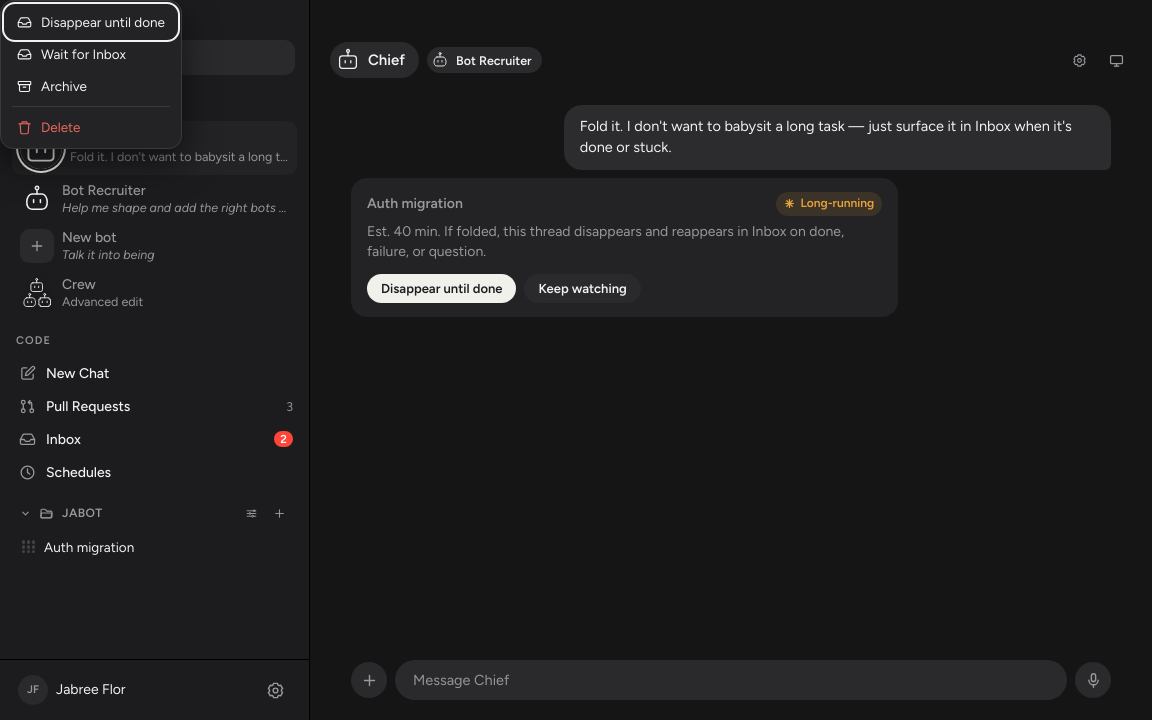
Test: folding a host-owned thread › puts the row back and says why when the host refuses an archive
(page scrolled)
Expected: the button named "New thread in jabot" is shown, [269, 504, 289, 524]
Click the menu item "Archive".
click(91, 86)  # box [6, 70, 176, 102]
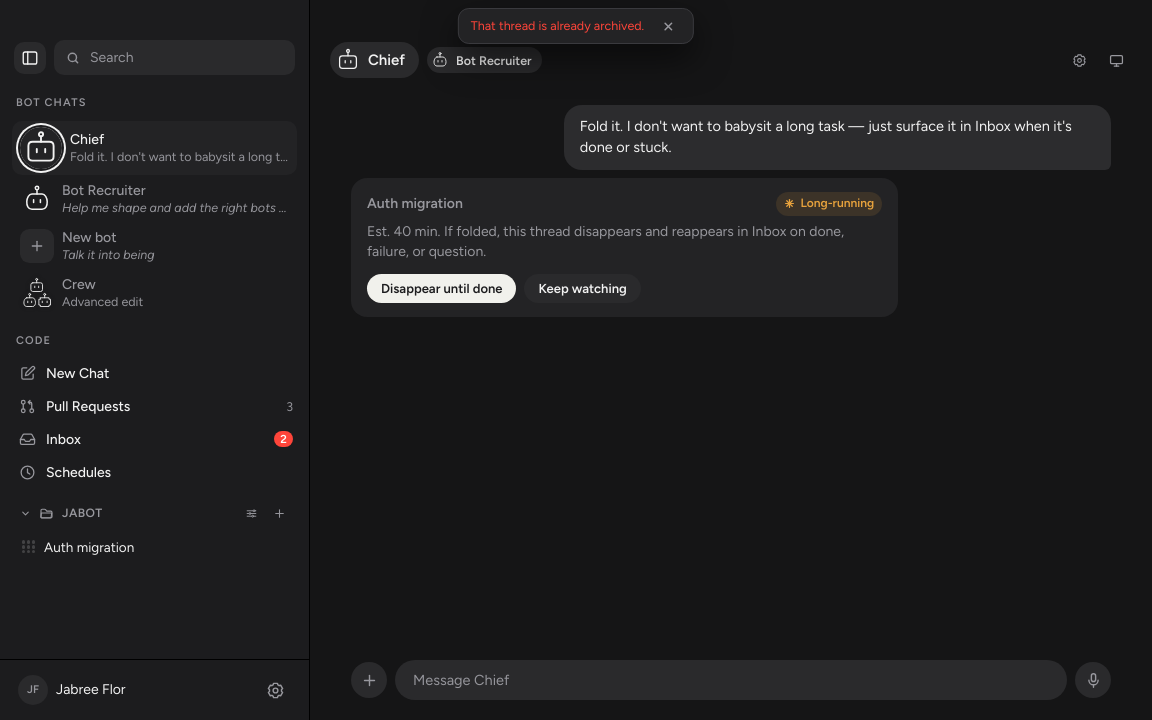
Expected: the button "Auth migration" is shown, [14, 531, 295, 563]
Now the message reads "That thread is already archived.", box [471, 18, 644, 33]
